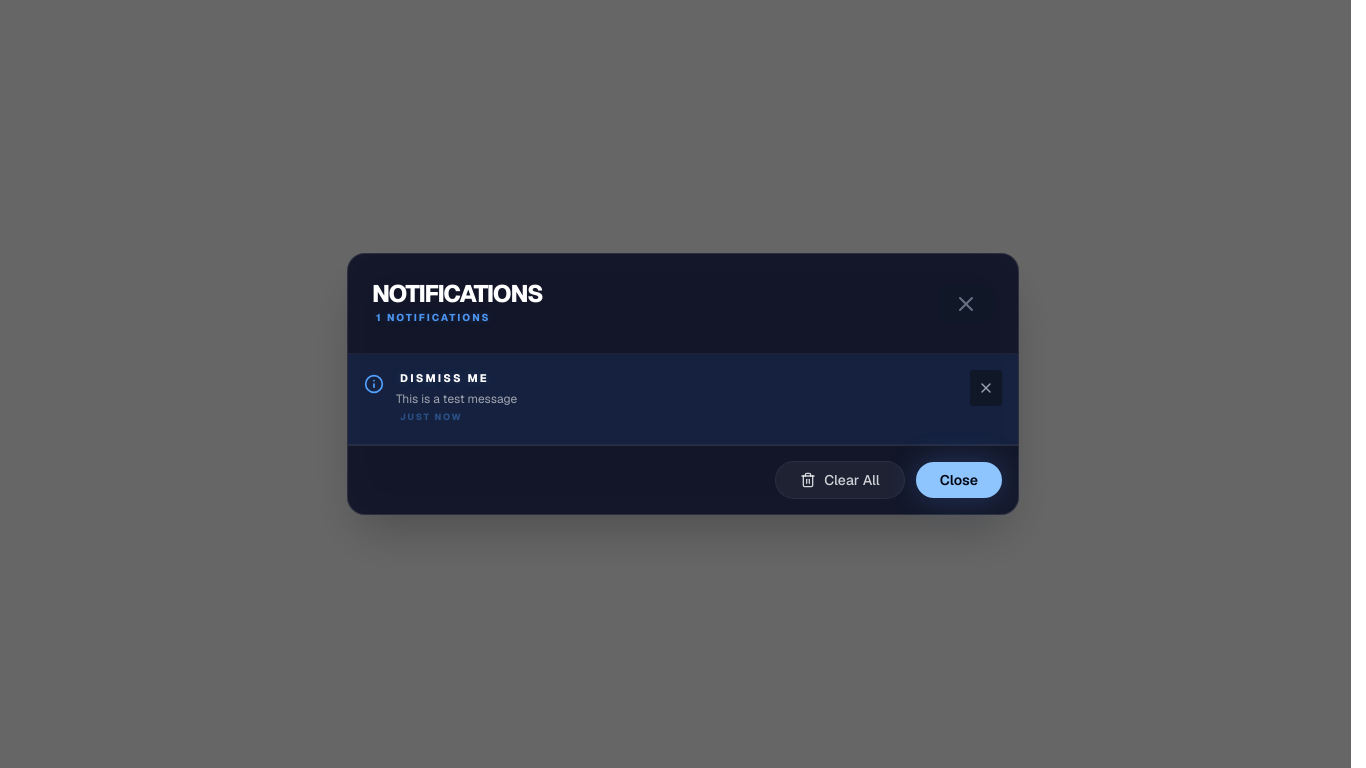
Test: NotificationModal › dismissing a single notification › removes notification from UI when dismiss button clicked
expect the heading "Dismiss Me" is shown: met, box [400,371,489,385]
Click the button named "Dismiss notification": (986, 388) [970,370,1002,406]
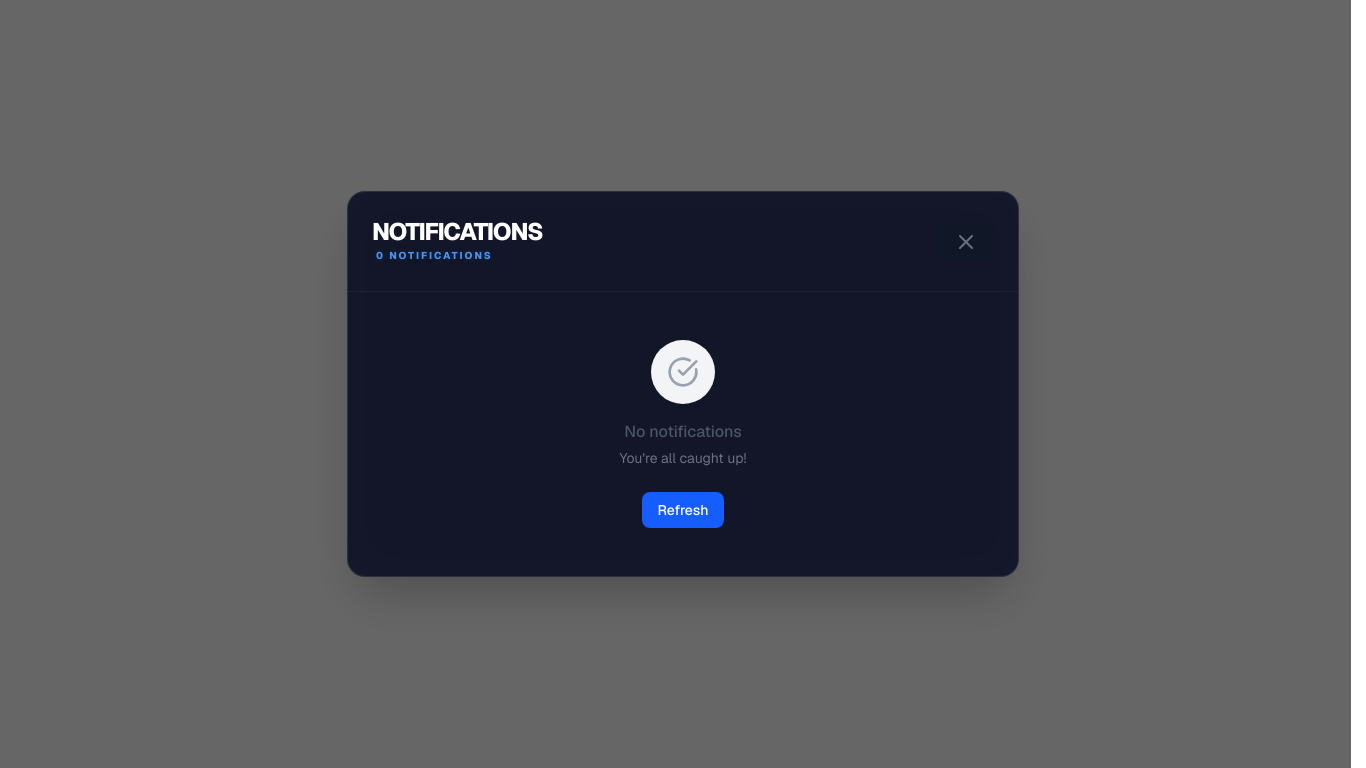
expect the heading "Dismiss Me" is gone: met
